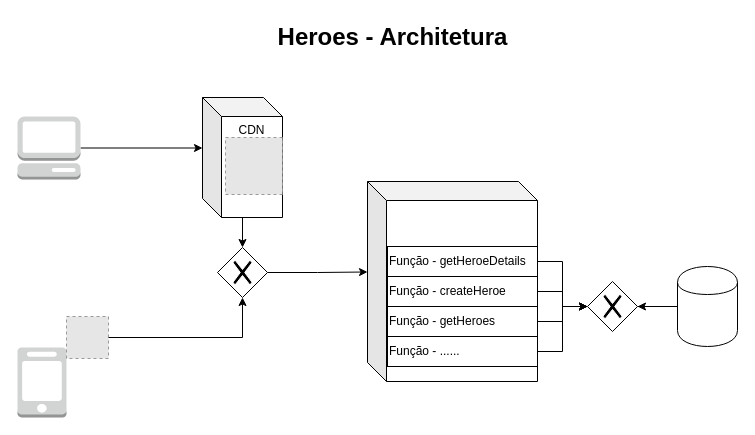
The diagram is 755 pixels wide and 435 high, and some of its shapes have lost their labels. Grey dashed boxes stand in for pictures. Here are the shapes that lost their labels. From the top down, the box of each, then its label:
(366, 180, 538, 382): Google Funções
(676, 266, 738, 346): Heroes MongoDB
